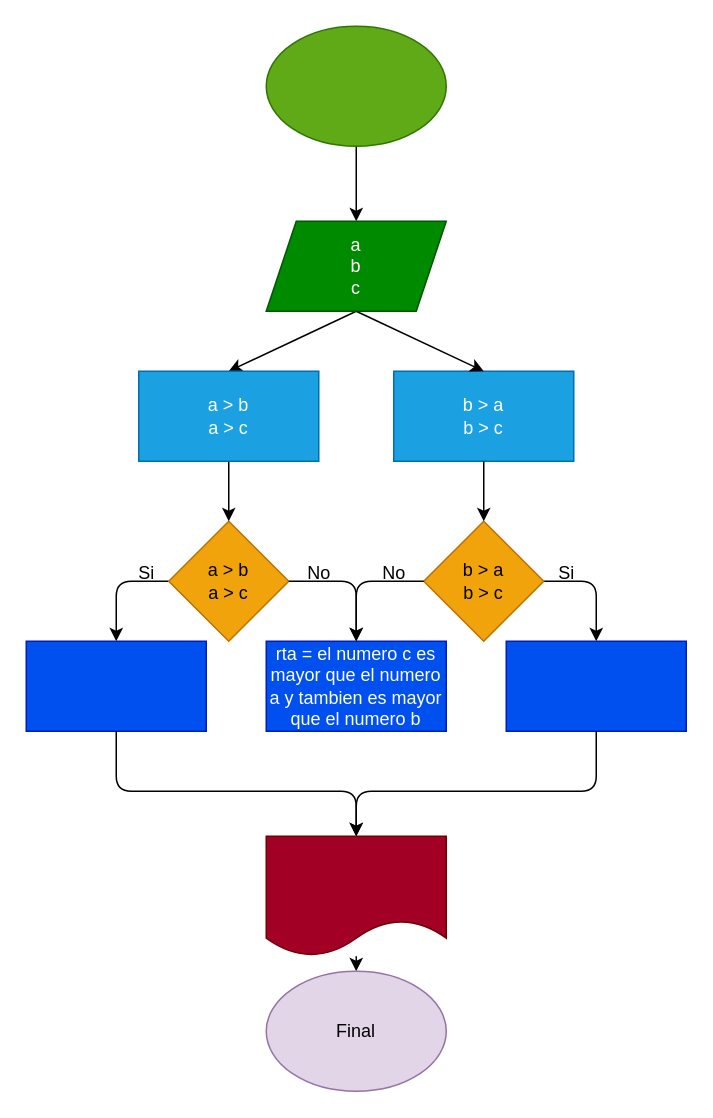
This 713x1118 diagram has some shape labels left out. The box of each missing label's shape, as (x1, y1, x2, y2) in pixels:
Inicio: (265, 25, 446, 146)
rta: (265, 835, 446, 956)
rta = el numero a es mayor que el numero b y tambien es mayor que el numero c: (25, 640, 206, 731)
rta = el numero b es mayor que el numero a y tambien es mayor que el numero c: (505, 640, 686, 731)
